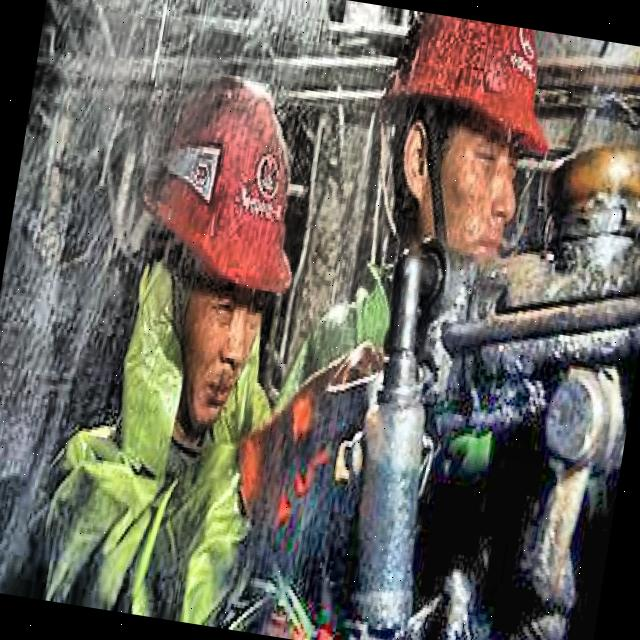helmet: (109, 48, 325, 448), (357, 13, 575, 286)
